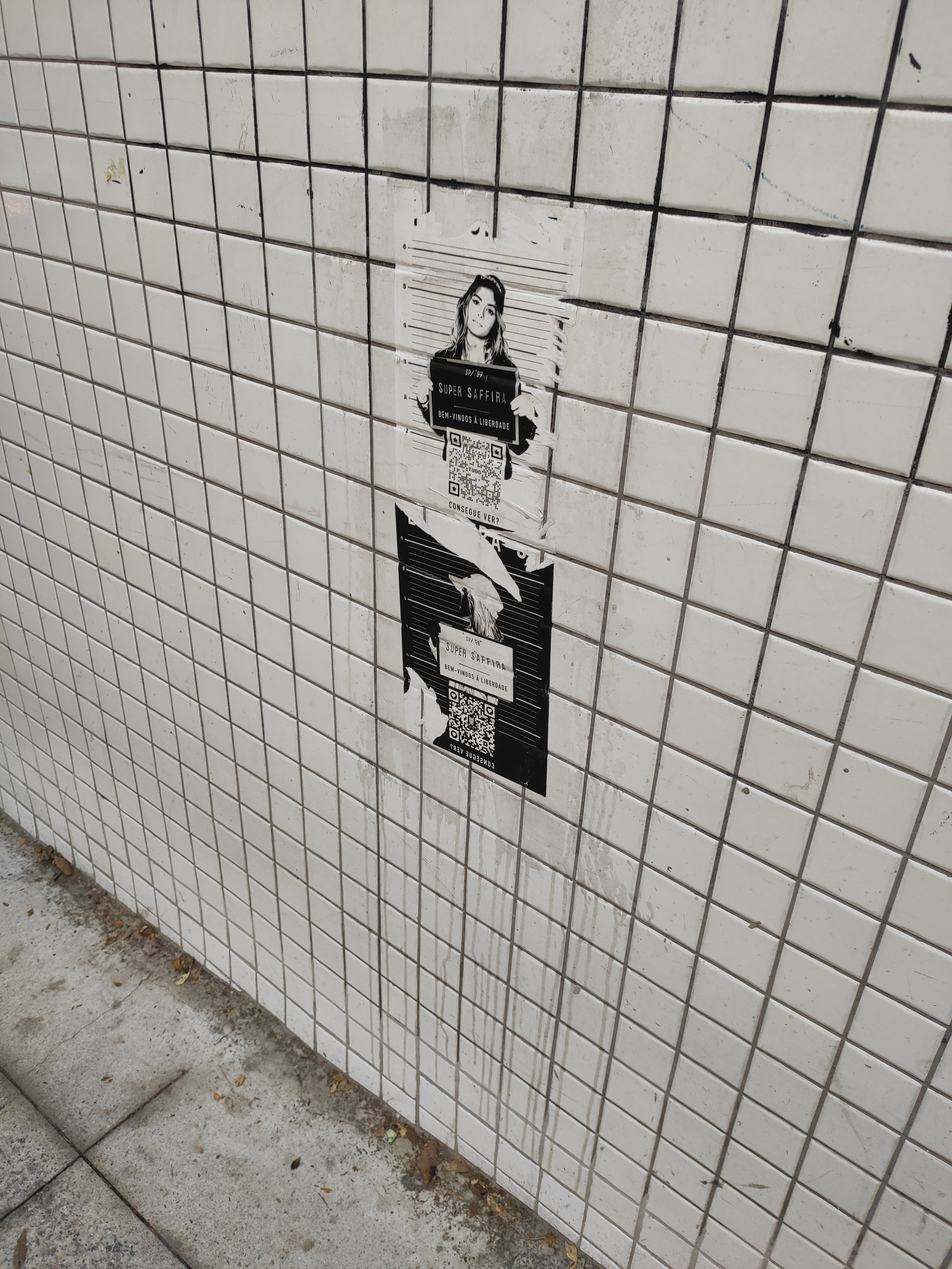QR-CODE: (449, 432, 503, 510), (448, 689, 495, 758)
